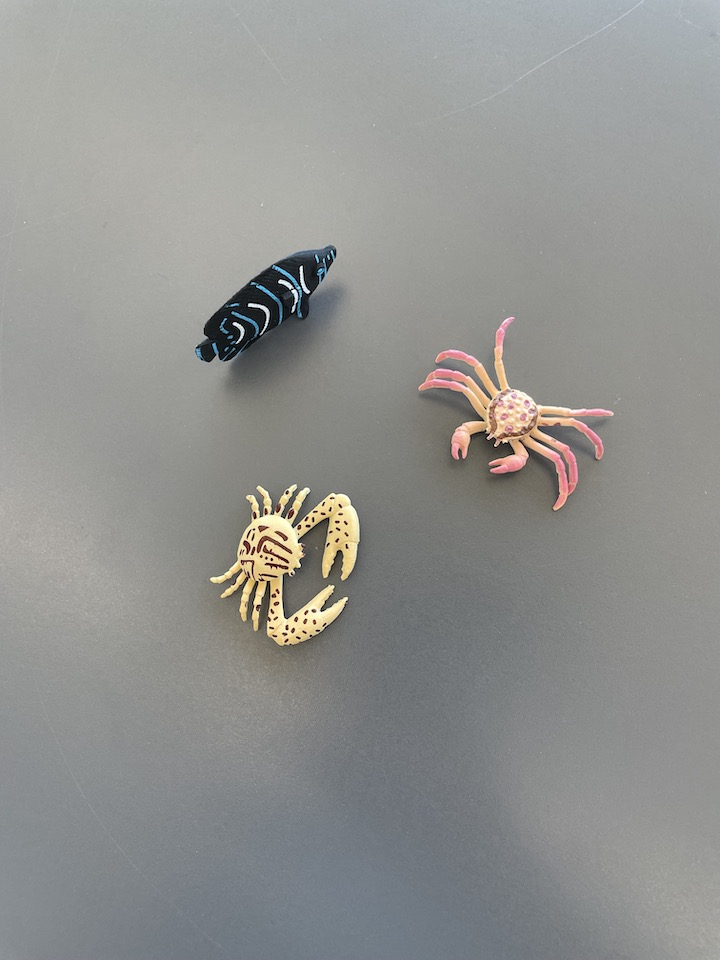crab: (417, 310, 617, 517), (210, 475, 368, 649)
fish: (192, 242, 344, 368)
